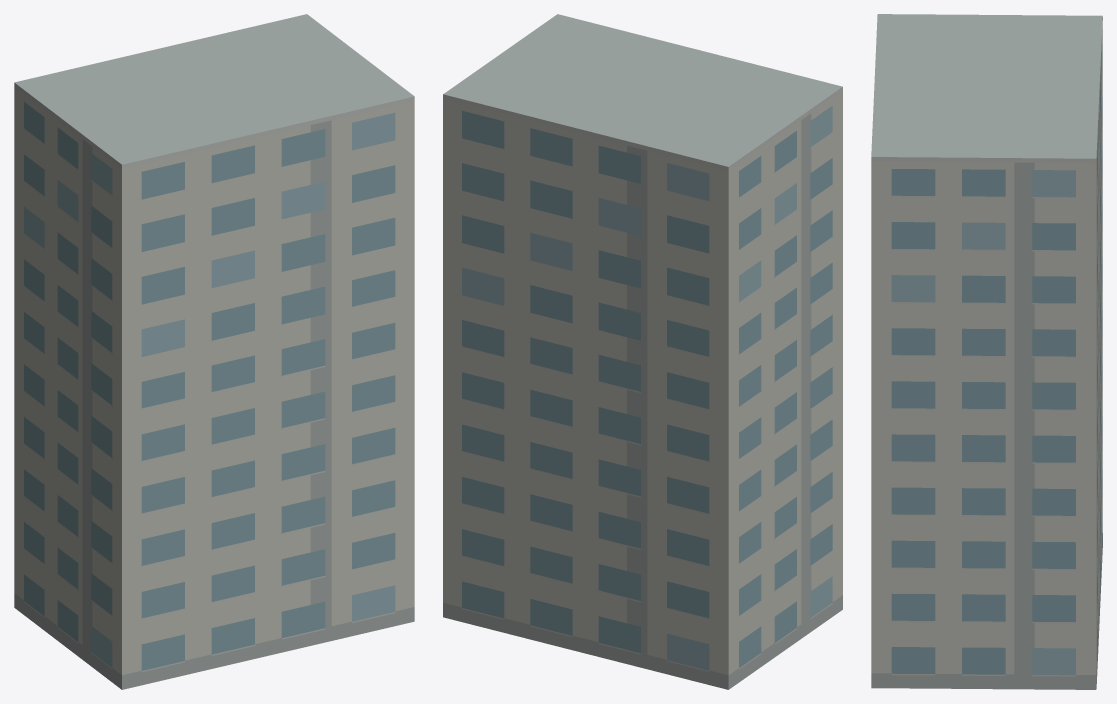
Rendered from residential-9b301fbc-0224-4605-aa7c-19994625de60.glb.
3 views of the same model, side by side, from view 1: azimuth 30°, elevation 25°; view 2: azimuth 150°, elevation 25°; view 3: azimuth 270°, elevation 25° (orthographic).
Visible parts, largest first — view 1: residential-9b301fbc-0224-4605-aa7c-19994625de60.tmp; view 2: residential-9b301fbc-0224-4605-aa7c-19994625de60.tmp; view 3: residential-9b301fbc-0224-4605-aa7c-19994625de60.tmp.
Part boxes in pixels (x1=…): residential-9b301fbc-0224-4605-aa7c-19994625de60.tmp: x1=14, y1=14, x2=414, y2=689; residential-9b301fbc-0224-4605-aa7c-19994625de60.tmp: x1=443, y1=14, x2=842, y2=689; residential-9b301fbc-0224-4605-aa7c-19994625de60.tmp: x1=871, y1=14, x2=1102, y2=689.
Bounding box in the file's own units: 16.95 × 29 × 11.47.
